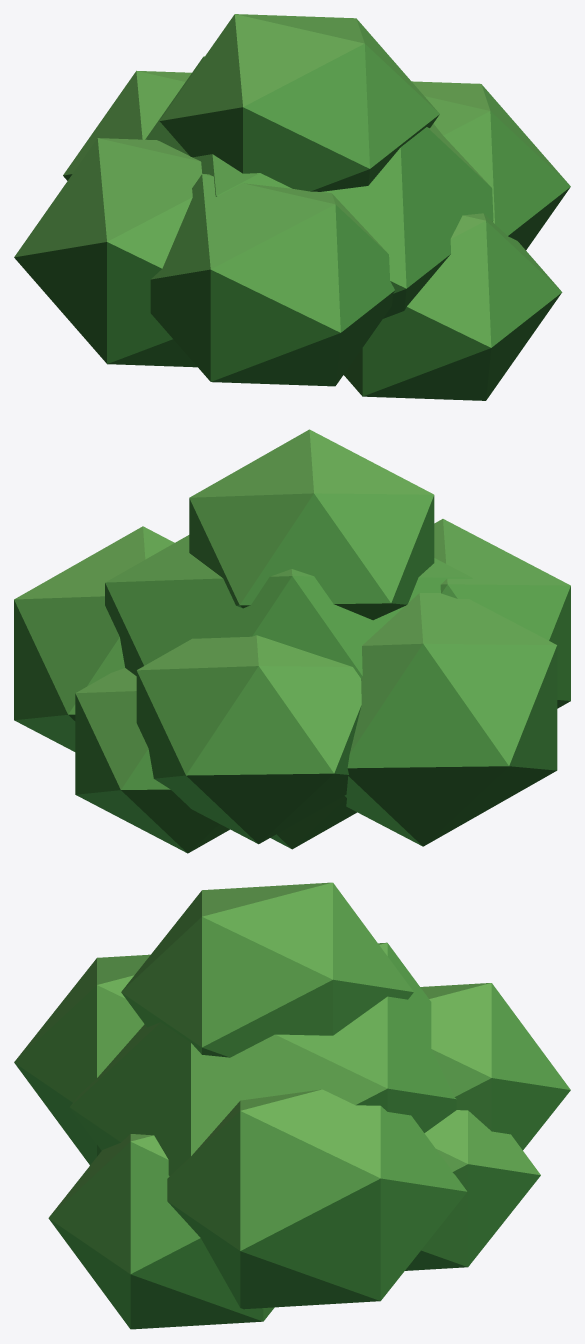
The model's file is TreeCanopy_1.glb.
3 renders of one model, top to bottom at view 1: azimuth 30°, elevation 25°; view 2: azimuth 150°, elevation 25°; view 3: azimuth 270°, elevation 25°, orthographic. The views are drawn at different scales.
Visible parts, largest first — view 1: TreeCanopy_1; view 2: TreeCanopy_1; view 3: TreeCanopy_1.
Part boxes in pixels (x1=…): TreeCanopy_1: x1=14, y1=14, x2=570, y2=400; TreeCanopy_1: x1=14, y1=429, x2=570, y2=853; TreeCanopy_1: x1=14, y1=882, x2=570, y2=1329.
Size of the model in its own units: 11.44 by 7.77 by 10.65.
Materials: 1 (1 with a texture image).
